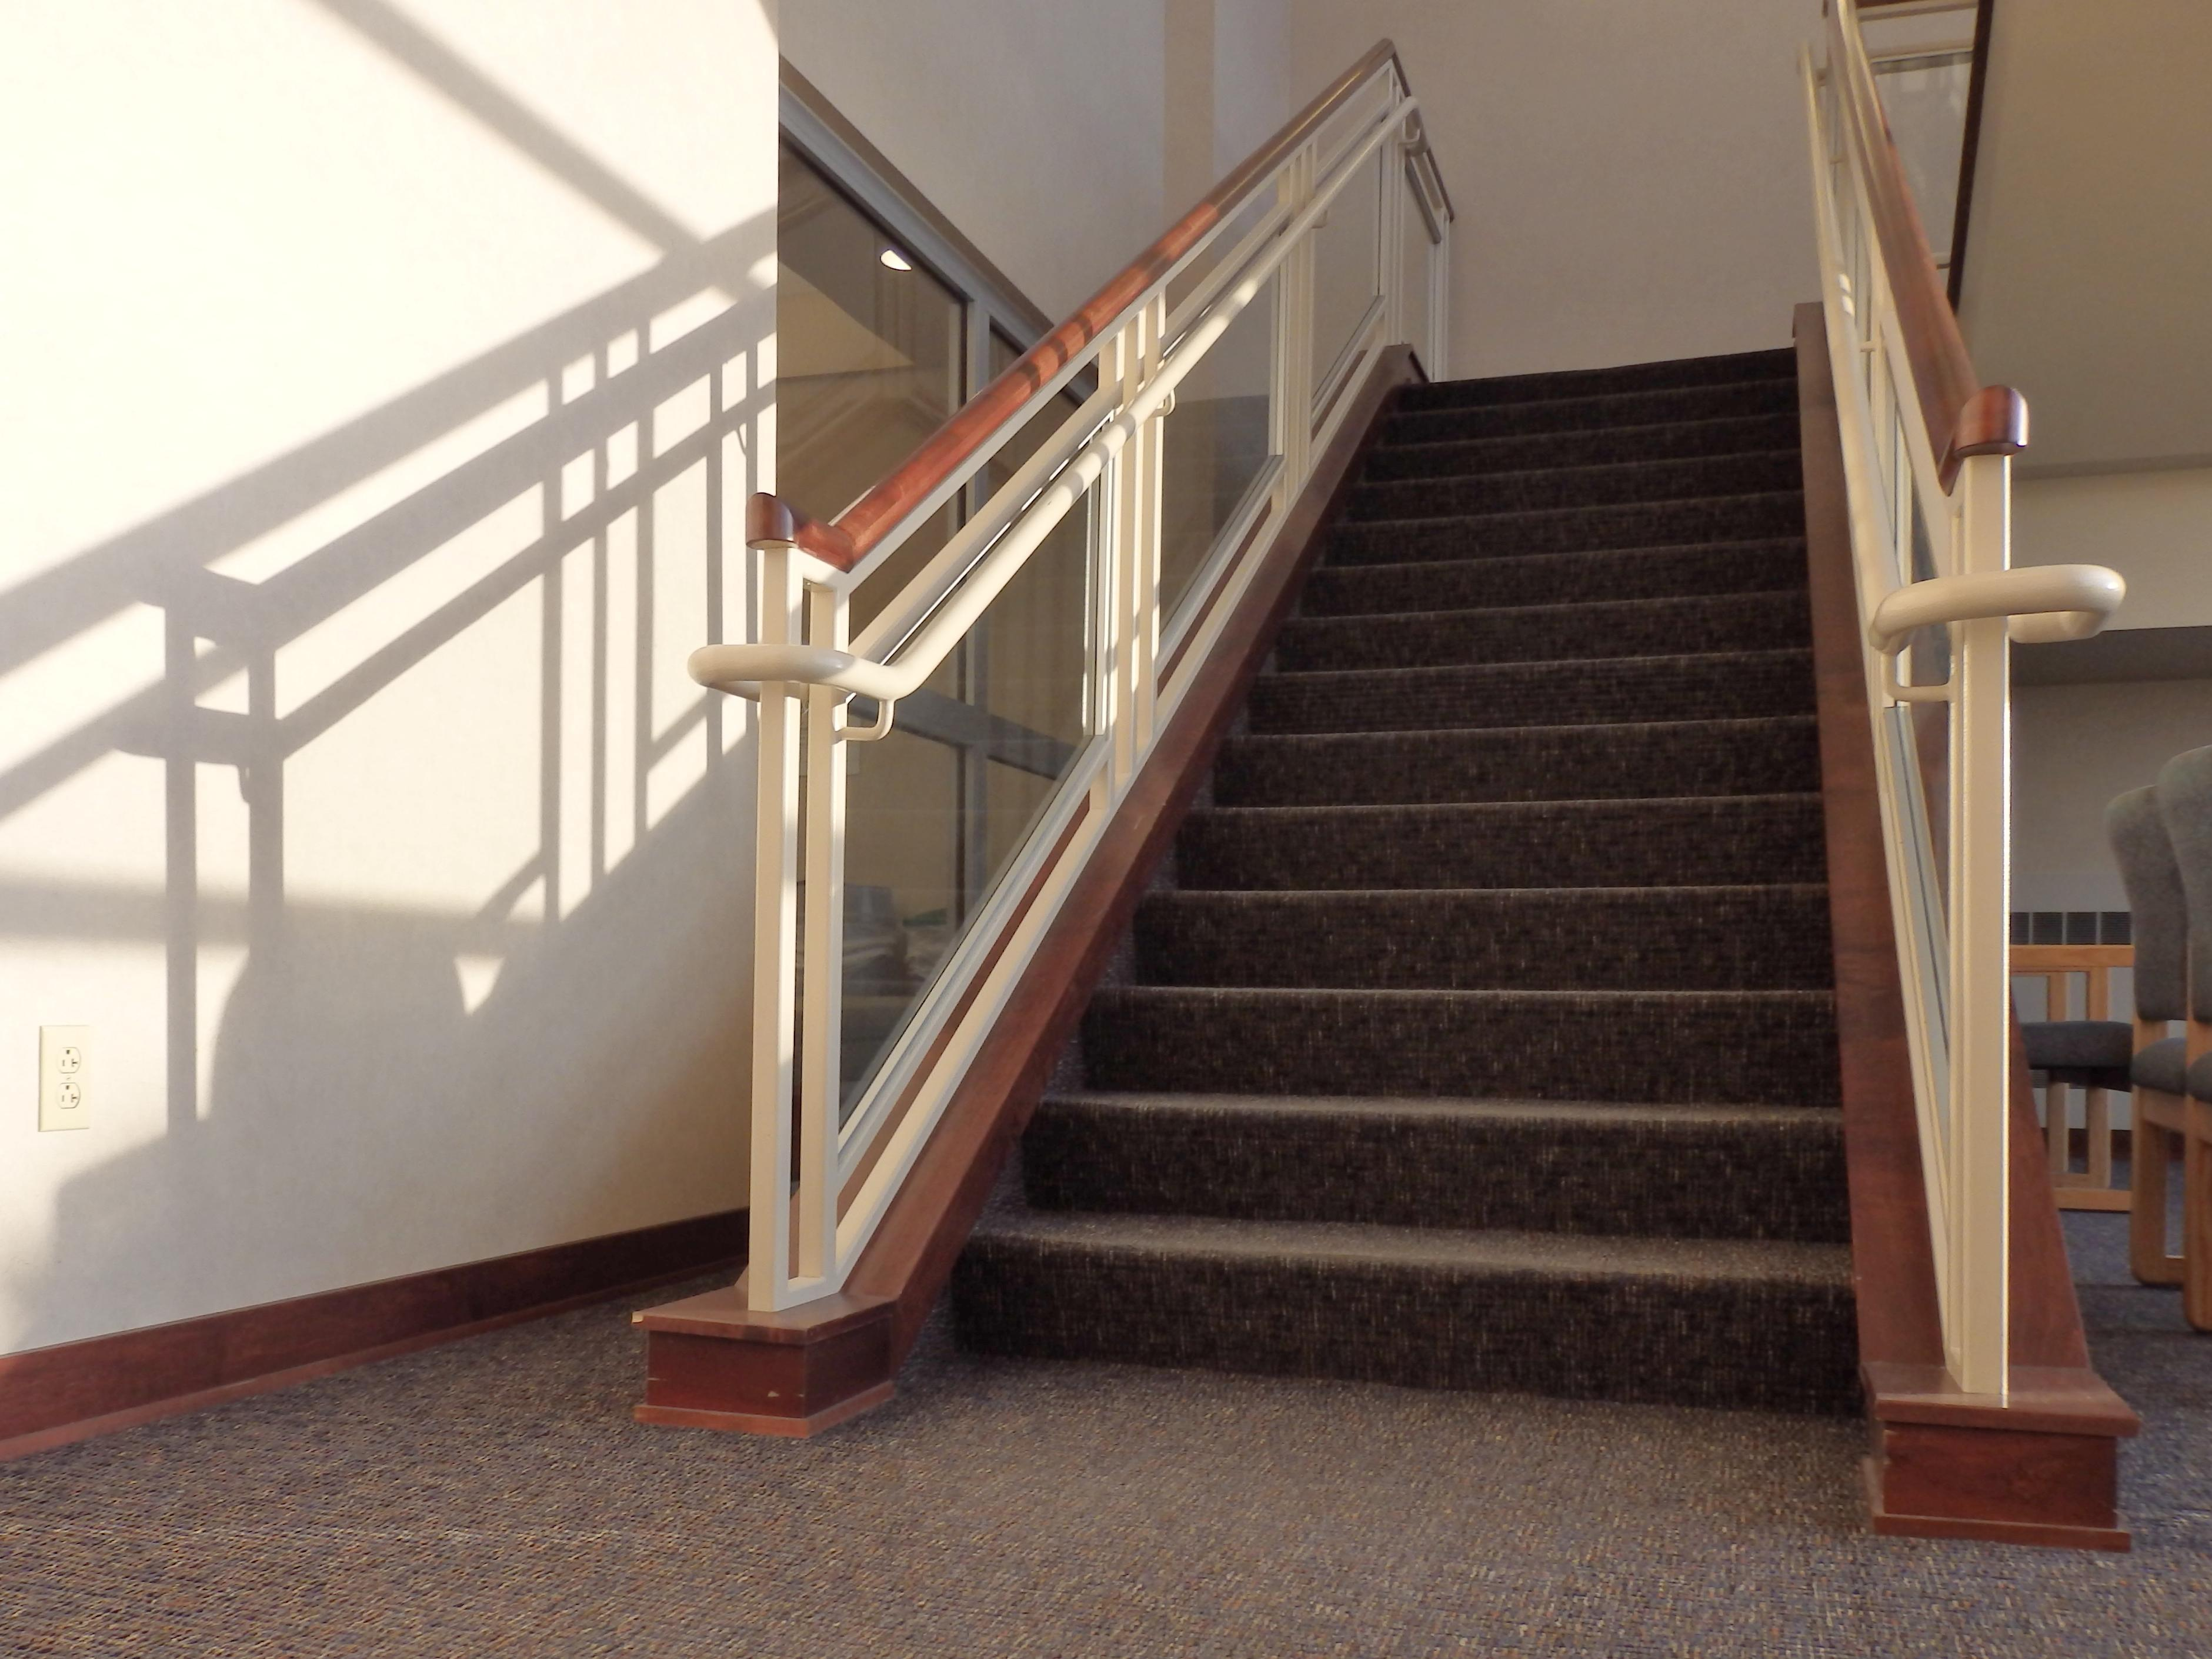stairs_up: (953, 335, 1869, 1412)
